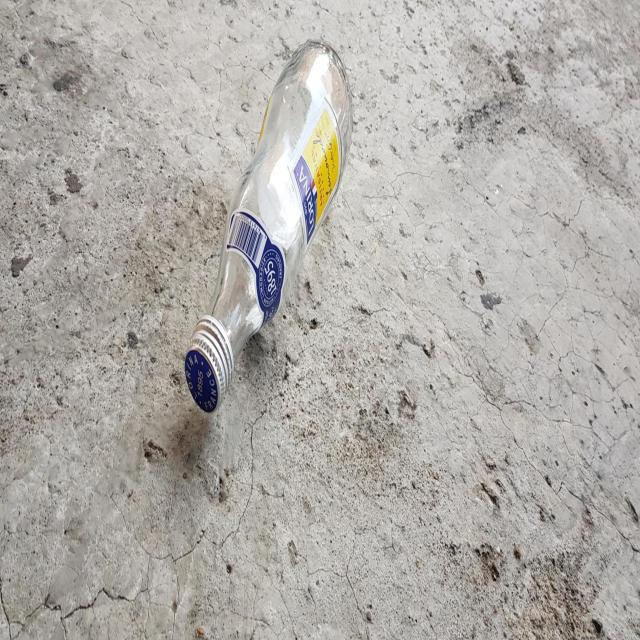glass: (185, 40, 352, 412)
